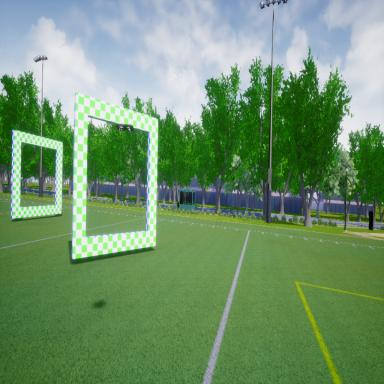gate: (72, 84, 161, 270), (10, 126, 63, 226)
